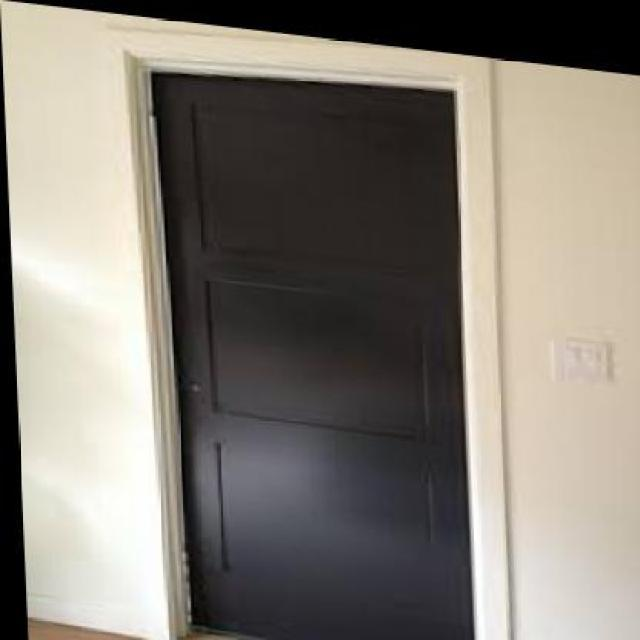door: (143, 55, 482, 640)
